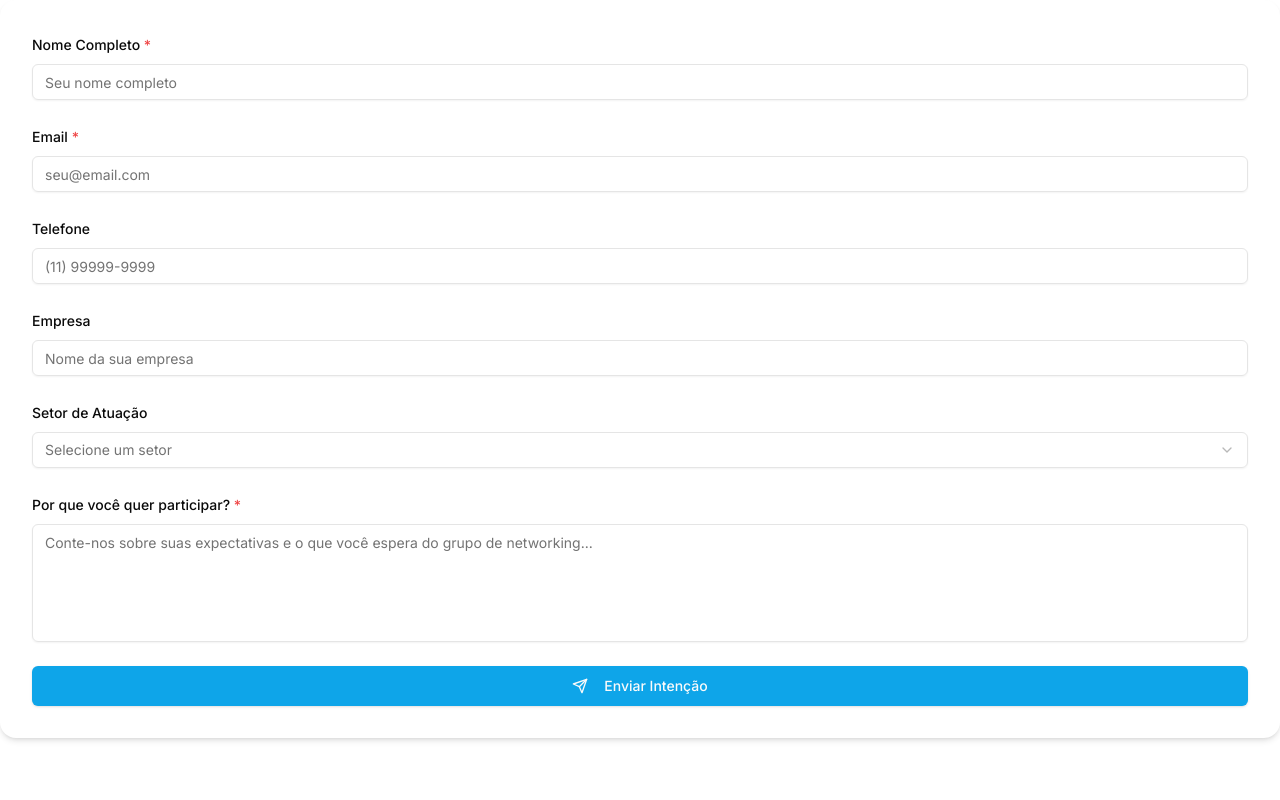
ApplyForm › should show error message on submission failure
The image size is (1280, 800).
Type "João Silva" into the field labelled "Nome Completo *" at [640, 82], box [32,64,1248,100]
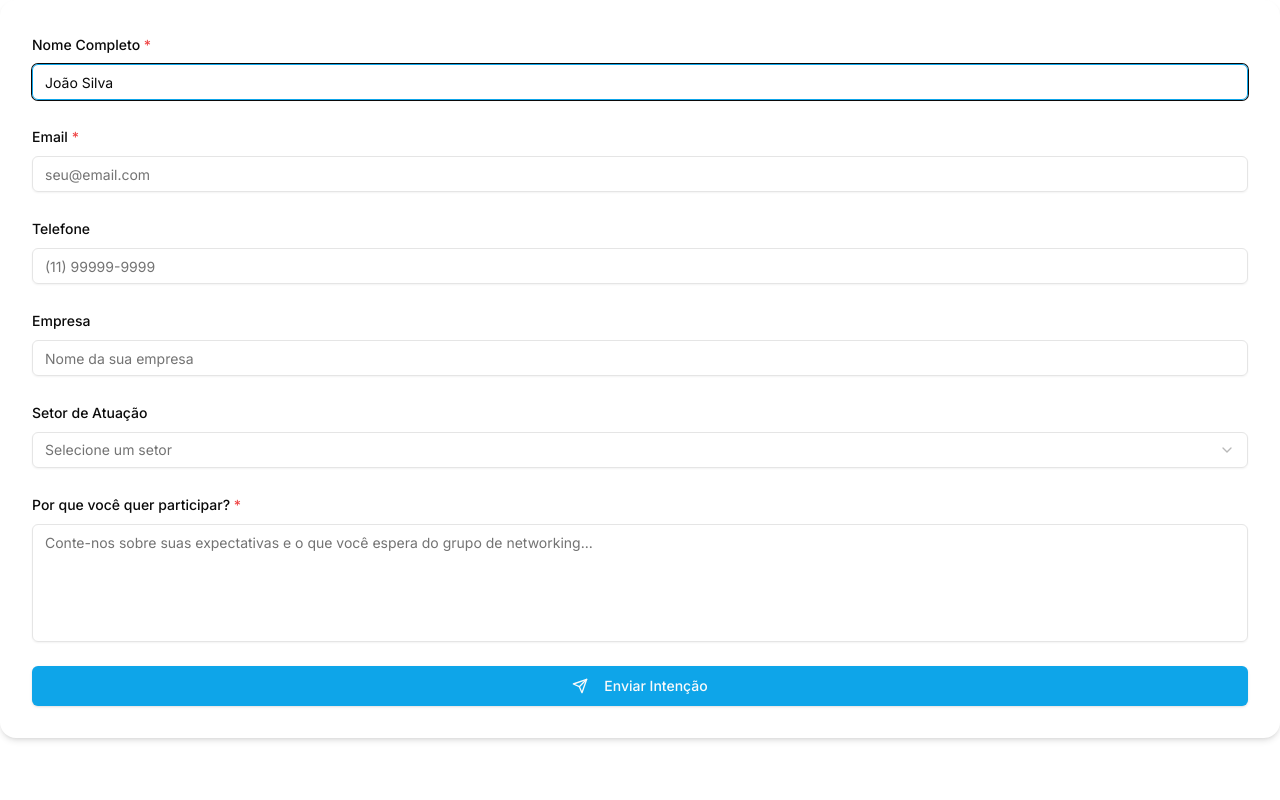
Type "joao@example.com" into the field labelled "Email *" at [640, 174], box [32,156,1248,192]
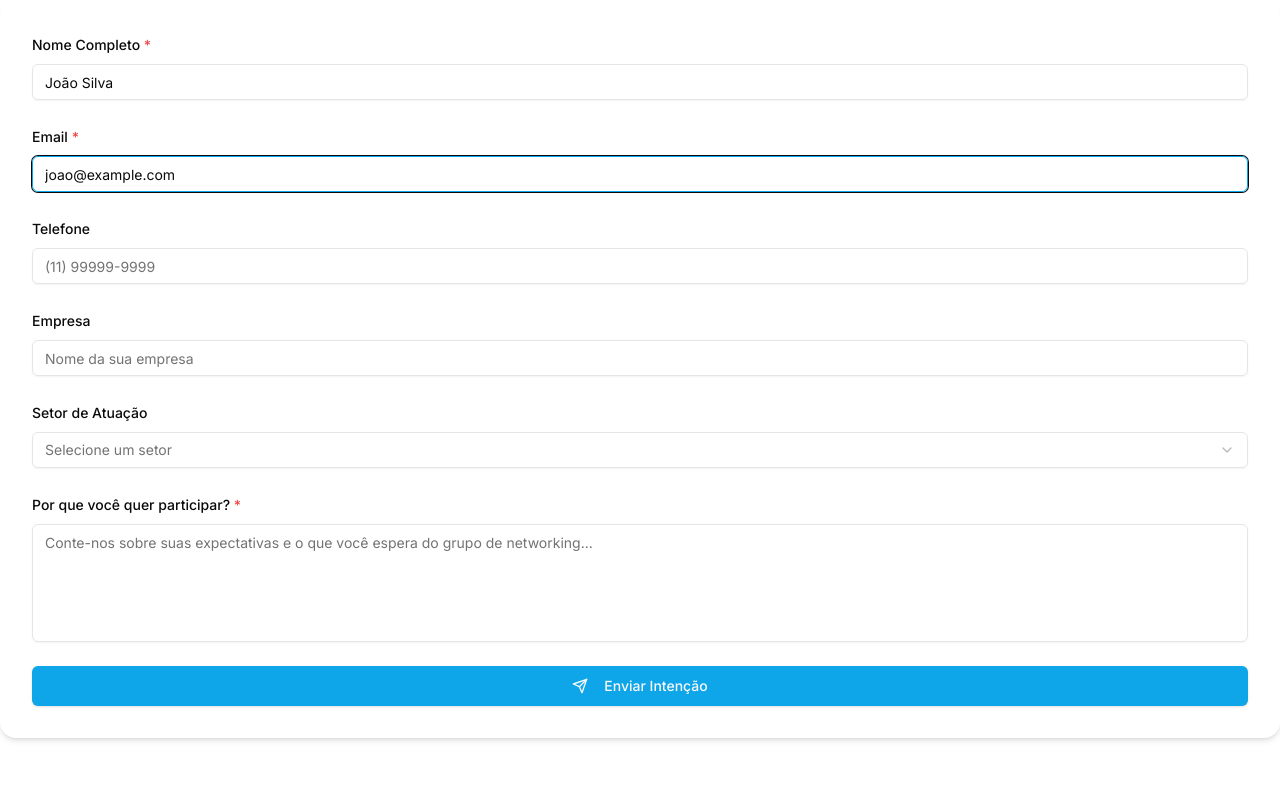
Type "Desejo expandir minha rede de contatos profissionais" into the text box labelled "Por que você quer participar? *" at [640, 583], box [32,524,1248,642]
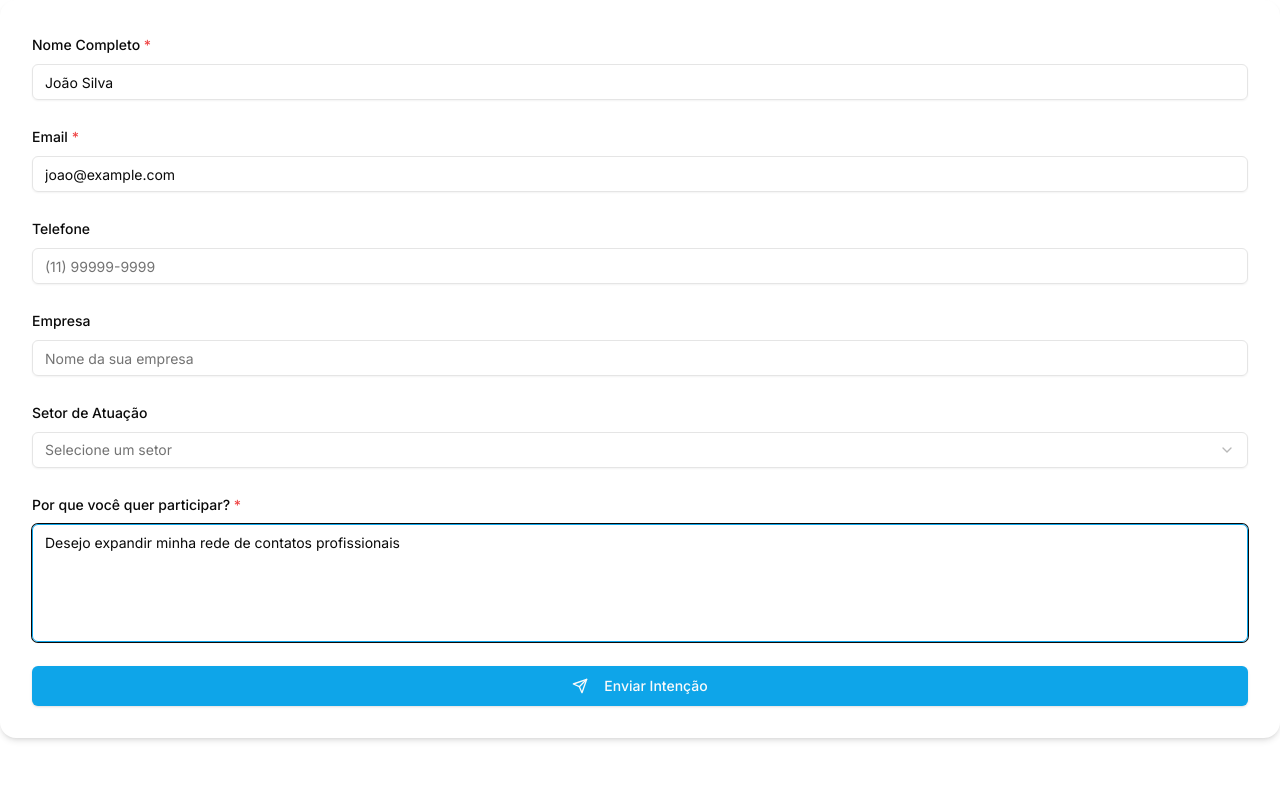
Click the button "Enviar Intenção" at [640, 686], box [32,666,1248,706]
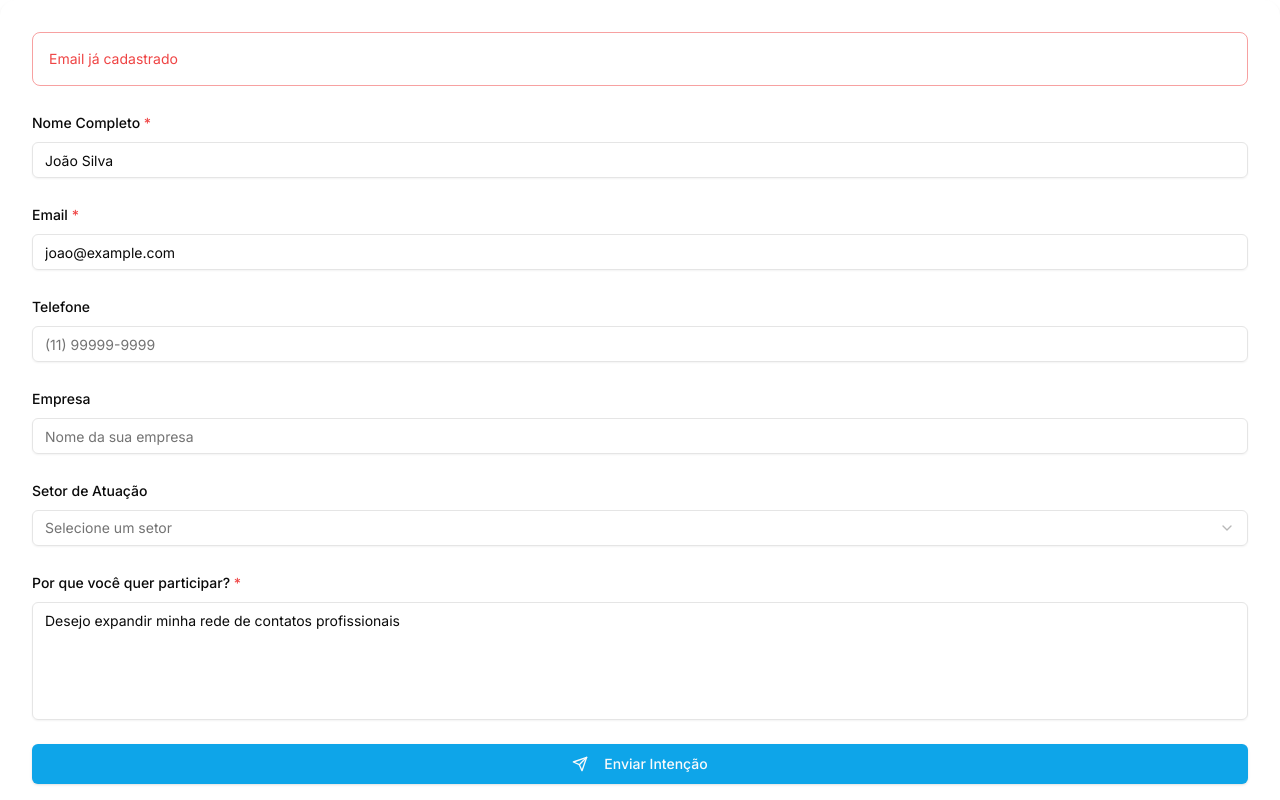
Now the text "Email já cadastrado" is shown, box [49,50,178,67]
